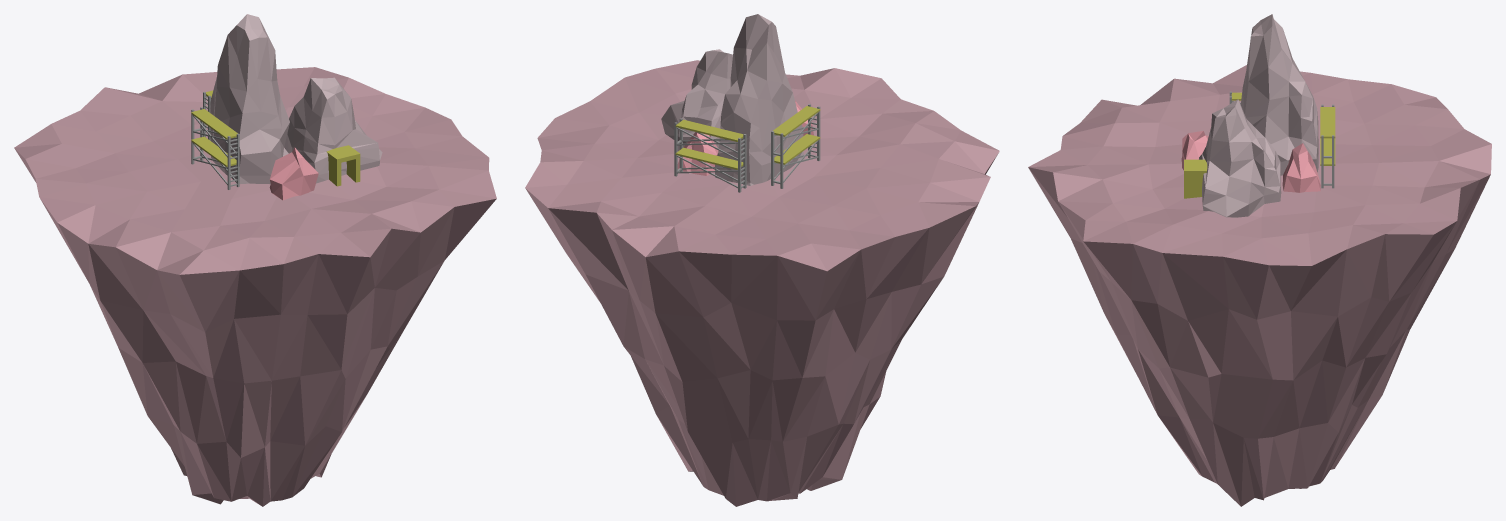
File: Ostrov-stone.fbx
3 renders of one model, left to right at view 1: azimuth 30°, elevation 25°; view 2: azimuth 150°, elevation 25°; view 3: azimuth 270°, elevation 25°, orthographic.
Parts seen in each view (by area): view 1: Cube, Куб, Куб.005, Куб.002, Куб.003; view 2: Cube, Куб, Куб.004, Куб.005, Куб.001; view 3: Cube, Куб, Куб.001, Куб.004, Куб.003, Куб.002.
Boxes of the visible parts, x1,y1,x2,y2 form: Cube: (14,67,496,506); Куб: (210,14,382,184); Куб.005: (191,107,239,189); Куб.002: (269,147,318,200); Куб.003: (326,145,360,186); Cube: (525,60,999,506); Куб: (661,14,804,185); Куб.004: (674,118,746,192); Куб.005: (771,104,820,188); Куб.001: (677,132,718,175); Cube: (1028,65,1491,506); Куб: (1199,14,1318,217); Куб.001: (1282,143,1320,192); Куб.004: (1320,104,1335,188); Куб.003: (1184,159,1207,198); Куб.002: (1181,131,1208,170).
Size of the model in its own units: 2525 by 2809 by 2517.
